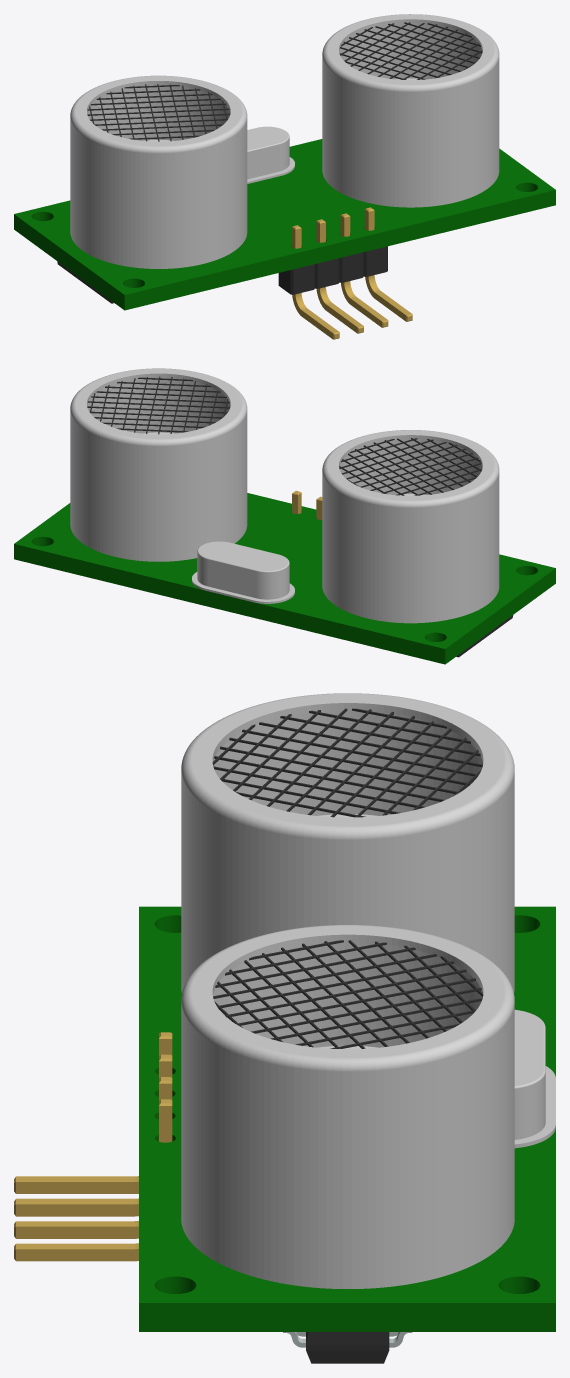
3 renders of one model, top to bottom at view 1: azimuth 30°, elevation 25°; view 2: azimuth 150°, elevation 25°; view 3: azimuth 270°, elevation 25°, orthographic. The views are drawn at different scales.
Parts seen in each view (by area): view 1: node_a8606be0_5c7a_4482_a55c_8850eefeca95_mesh2, node_a8606be0_5c7a_4482_a55c_8850eefeca95_mesh0, node_a8606be0_5c7a_4482_a55c_8850eefeca95_mesh1, node_a8606be0_5c7a_4482_a55c_8850eefeca95_mesh5; view 2: node_a8606be0_5c7a_4482_a55c_8850eefeca95_mesh2, node_a8606be0_5c7a_4482_a55c_8850eefeca95_mesh0, node_a8606be0_5c7a_4482_a55c_8850eefeca95_mesh1, node_a8606be0_5c7a_4482_a55c_8850eefeca95_mesh5; view 3: node_a8606be0_5c7a_4482_a55c_8850eefeca95_mesh2, node_a8606be0_5c7a_4482_a55c_8850eefeca95_mesh0, node_a8606be0_5c7a_4482_a55c_8850eefeca95_mesh1, node_a8606be0_5c7a_4482_a55c_8850eefeca95_mesh5.
Boxes of the visible parts, x1,y1,x2,y2 form: node_a8606be0_5c7a_4482_a55c_8850eefeca95_mesh2: (70, 14, 499, 268); node_a8606be0_5c7a_4482_a55c_8850eefeca95_mesh0: (14, 139, 555, 310); node_a8606be0_5c7a_4482_a55c_8850eefeca95_mesh1: (57, 22, 482, 303); node_a8606be0_5c7a_4482_a55c_8850eefeca95_mesh5: (292, 207, 412, 339); node_a8606be0_5c7a_4482_a55c_8850eefeca95_mesh2: (70, 368, 499, 623); node_a8606be0_5c7a_4482_a55c_8850eefeca95_mesh0: (14, 493, 555, 664); node_a8606be0_5c7a_4482_a55c_8850eefeca95_mesh1: (87, 376, 513, 657); node_a8606be0_5c7a_4482_a55c_8850eefeca95_mesh5: (292, 490, 322, 519); node_a8606be0_5c7a_4482_a55c_8850eefeca95_mesh2: (181, 693, 555, 1288); node_a8606be0_5c7a_4482_a55c_8850eefeca95_mesh0: (139, 906, 555, 1331); node_a8606be0_5c7a_4482_a55c_8850eefeca95_mesh1: (212, 708, 483, 1363); node_a8606be0_5c7a_4482_a55c_8850eefeca95_mesh5: (14, 1032, 172, 1261).
Bounding box in the file's own units: 45 × 26 × 18.46.
